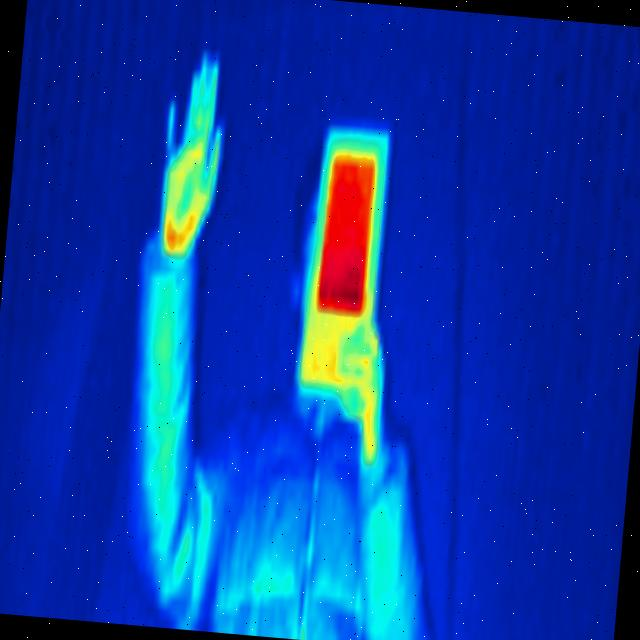hand: (152, 41, 236, 260)
rectangle: (295, 113, 399, 400)
